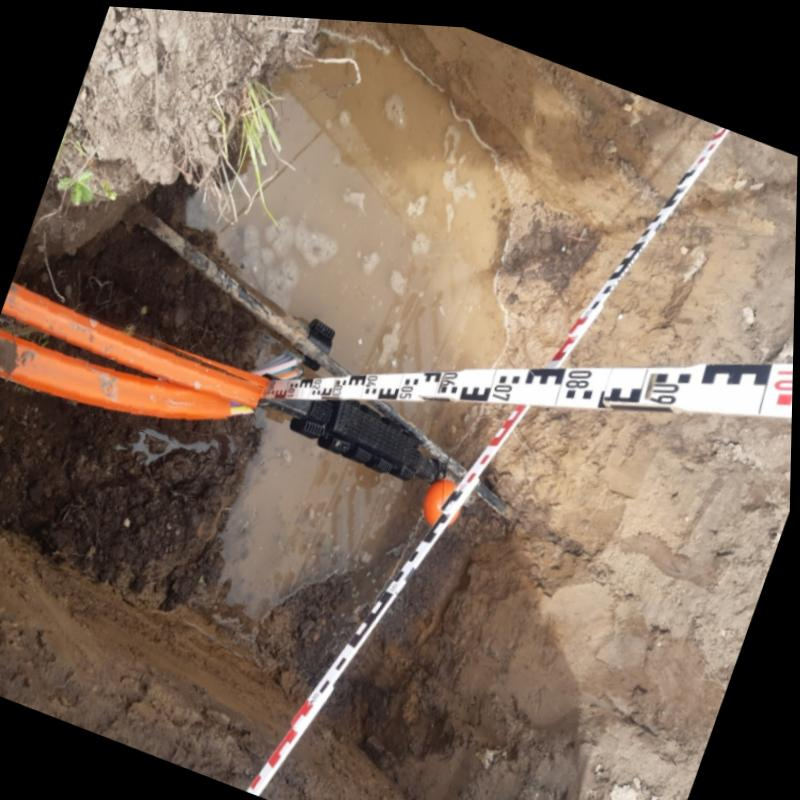Kugelmarker: (427, 476, 458, 519)
Orang-Speednetrohrchen: (0, 283, 266, 412)
